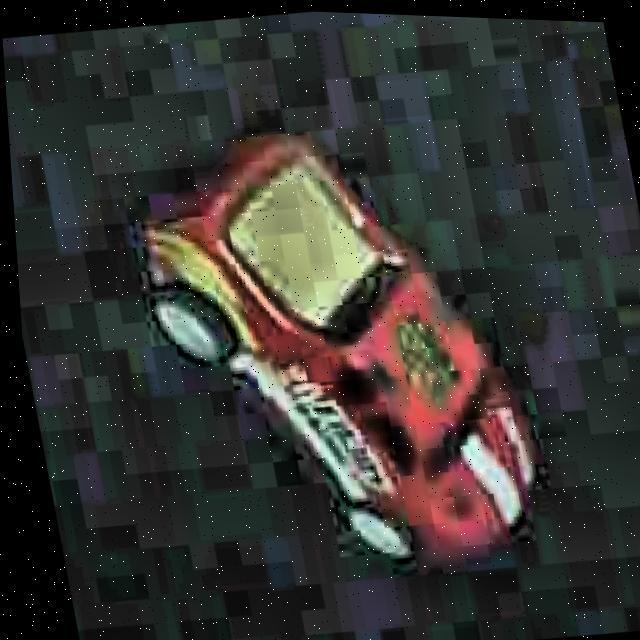car: (105, 101, 568, 607)
